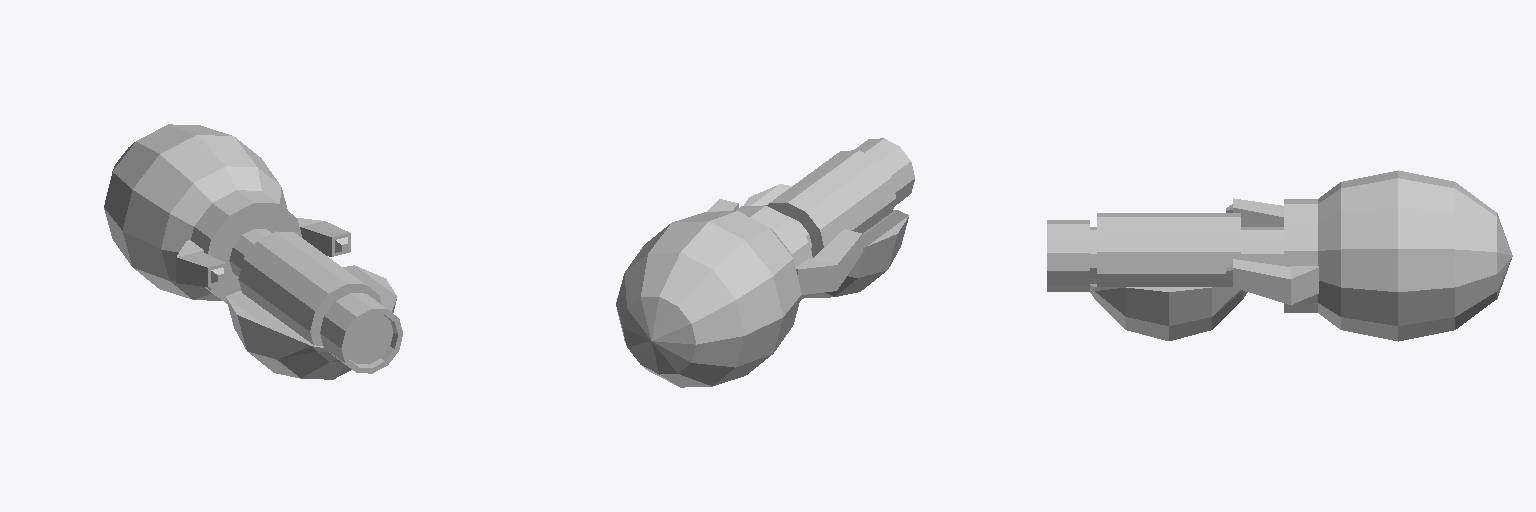
Rendered from antigravgun.obj.
3 renders of one model, left to right at view 1: azimuth 30°, elevation 25°; view 2: azimuth 150°, elevation 25°; view 3: azimuth 270°, elevation 25°, orthographic.
Visible parts, largest first — view 1: cube, barrel, gem; view 2: cube, barrel; view 3: cube, barrel.
Part boxes in pixels (x1,y1,x2,y2): cube: (104,124,350,303); barrel: (226,231,402,379); gem: (347,314,393,364); cube: (616,199,862,387); barrel: (744,138,914,298); cube: (1090,170,1512,341); barrel: (1047,213,1247,340).
Bounding box in the file's own units: 0.1875 × 0.1875 × 0.5078.